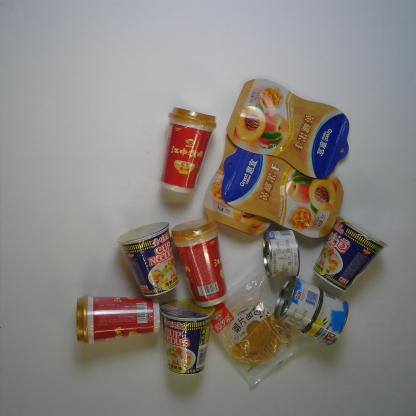Canned Food: (272, 274, 324, 328), (304, 295, 354, 344), (260, 228, 300, 276)
Dessert: (211, 275, 308, 372)
Dried Fruit: (224, 78, 349, 180), (204, 115, 306, 238), (222, 147, 340, 240)
Instant Drink: (157, 104, 218, 196), (170, 215, 229, 308), (73, 295, 159, 341)
Instant Noodles: (312, 219, 385, 291), (153, 304, 218, 373), (120, 222, 179, 293)
